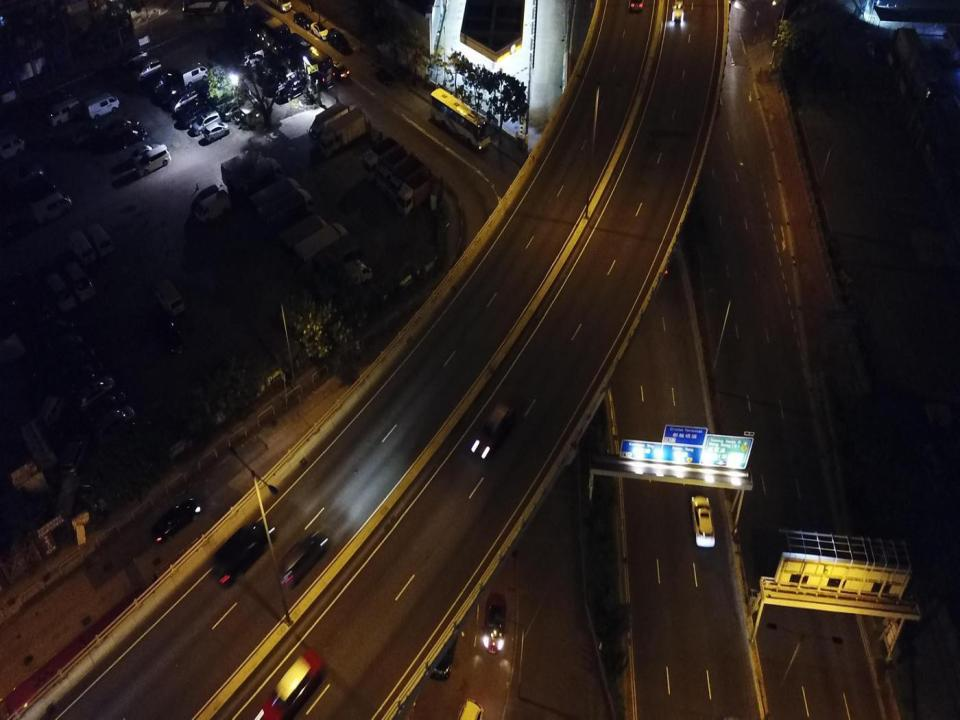bus: (428, 86, 489, 155), (286, 32, 334, 90), (242, 2, 289, 52)
car: (255, 648, 326, 719), (471, 403, 514, 462), (426, 604, 460, 677), (152, 495, 201, 537), (482, 592, 508, 656), (93, 406, 137, 437), (72, 373, 116, 404), (42, 331, 86, 362), (691, 494, 716, 548), (84, 390, 128, 420), (63, 360, 107, 390), (56, 344, 100, 374), (32, 314, 74, 344), (649, 225, 671, 280), (156, 315, 183, 358), (6, 161, 43, 183), (105, 115, 140, 136), (114, 126, 148, 147), (150, 68, 178, 93), (180, 105, 211, 127), (74, 122, 100, 146), (280, 78, 306, 102), (130, 142, 158, 164), (204, 121, 230, 142), (120, 46, 147, 66), (327, 58, 350, 80), (374, 65, 394, 88), (310, 21, 329, 41), (294, 10, 312, 30), (178, 100, 203, 113), (672, 0, 685, 24)
truck: (320, 108, 370, 156), (260, 188, 316, 230), (296, 224, 350, 265), (220, 156, 282, 189), (399, 166, 438, 217), (318, 258, 373, 293), (312, 242, 361, 278), (252, 175, 300, 211), (279, 214, 326, 250), (389, 155, 424, 203), (364, 139, 403, 179), (378, 152, 413, 192), (312, 104, 350, 140)
van: (214, 520, 274, 585), (280, 531, 329, 590), (58, 428, 90, 477), (29, 191, 72, 225), (64, 262, 96, 304), (44, 272, 74, 314), (84, 220, 113, 260), (137, 144, 172, 176), (195, 190, 231, 221), (154, 279, 184, 316), (85, 90, 120, 120), (67, 230, 96, 265), (47, 97, 82, 125), (19, 178, 58, 201), (180, 60, 208, 87), (39, 394, 64, 424), (133, 56, 161, 82), (192, 112, 221, 134), (0, 134, 25, 159), (170, 86, 197, 109), (327, 27, 349, 52)
